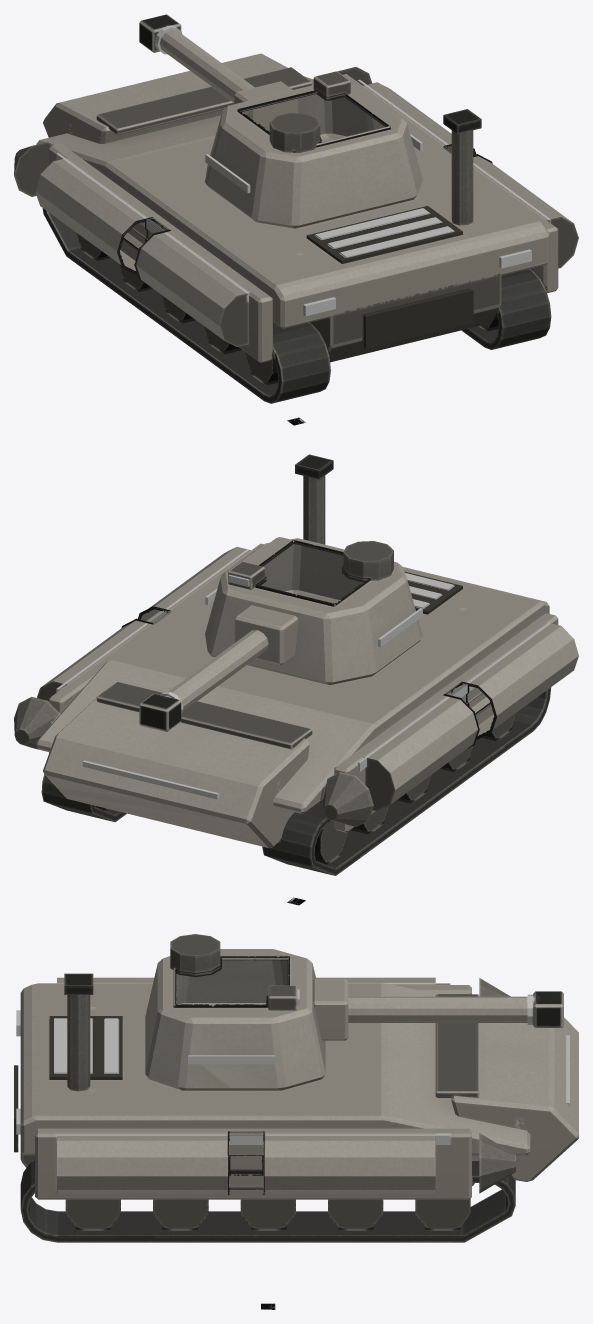
File: ord_wader.fbx
3 views of the same model, one above another, from view 1: azimuth 30°, elevation 25°; view 2: azimuth 150°, elevation 25°; view 3: azimuth 270°, elevation 25° (orthographic). The views are drawn at different scales.
Visible parts, largest first — view 1: base_bar, turret_bar, trackL_bar, base_glow_running_bar, barrel_bar, trackR_bar, turret_glow_running_bar; view 2: base_bar, turret_bar, trackL_bar, barrel_bar, base_glow_running_bar, trackR_bar, turret_glow_running_bar; view 3: base_bar, turret_bar, trackR_bar, barrel_bar, base_glow_running_bar, turret_glow_running_bar.
Boxes of the visible parts, box(x1,y1,x2,y2) form: base_bar: box(14, 53, 578, 362); turret_bar: box(205, 71, 422, 228); trackL_bar: box(42, 208, 330, 403); base_glow_running_bar: box(56, 79, 550, 316); barrel_bar: box(139, 14, 298, 131); trackR_bar: box(461, 269, 551, 349); turret_glow_running_bar: box(205, 134, 422, 193); base_bar: box(14, 454, 578, 847); turret_bar: box(205, 538, 422, 685); trackL_bar: box(262, 687, 551, 875); barrel_bar: box(139, 605, 298, 731); base_glow_running_bar: box(56, 549, 550, 799); trackR_bar: box(41, 774, 126, 822); turret_glow_running_bar: box(205, 575, 422, 647); base_bar: box(14, 973, 578, 1199); turret_bar: box(145, 934, 325, 1090); trackR_bar: box(20, 1159, 515, 1242); barrel_bar: box(313, 979, 563, 1040); base_glow_running_bar: box(16, 983, 569, 1144); turret_glow_running_bar: box(188, 989, 299, 1064).
Bounding box in the file's own units: 592 × 552 × 776.
2 materials, 2 textured.
